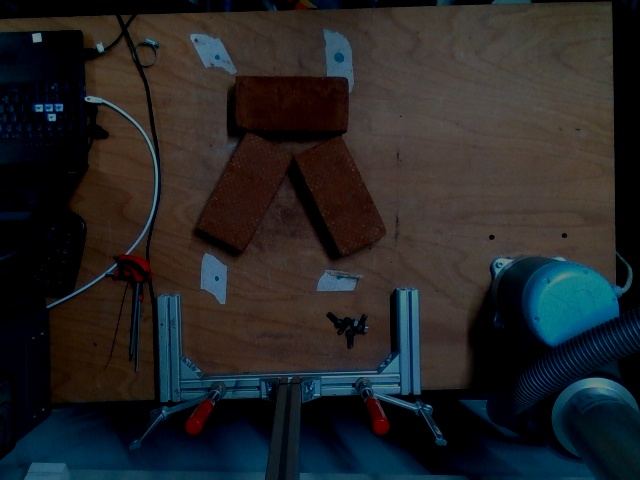brick: (196, 130, 291, 249), (297, 136, 386, 255), (236, 77, 344, 129)
